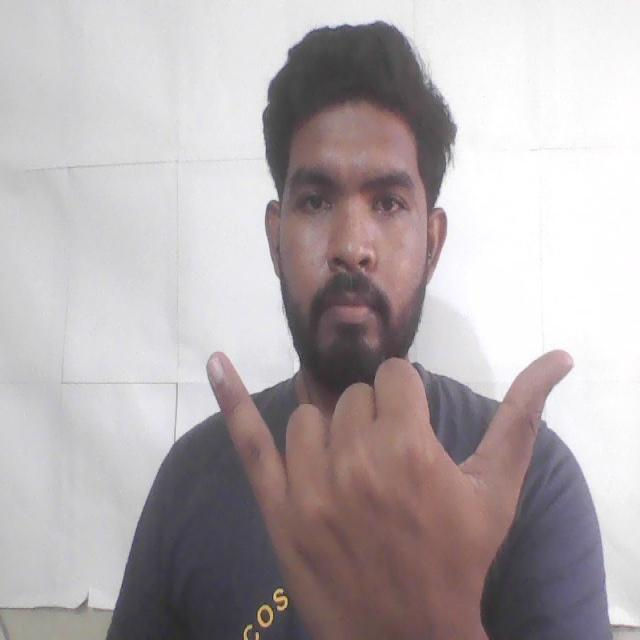Thanks: (177, 330, 588, 640)
